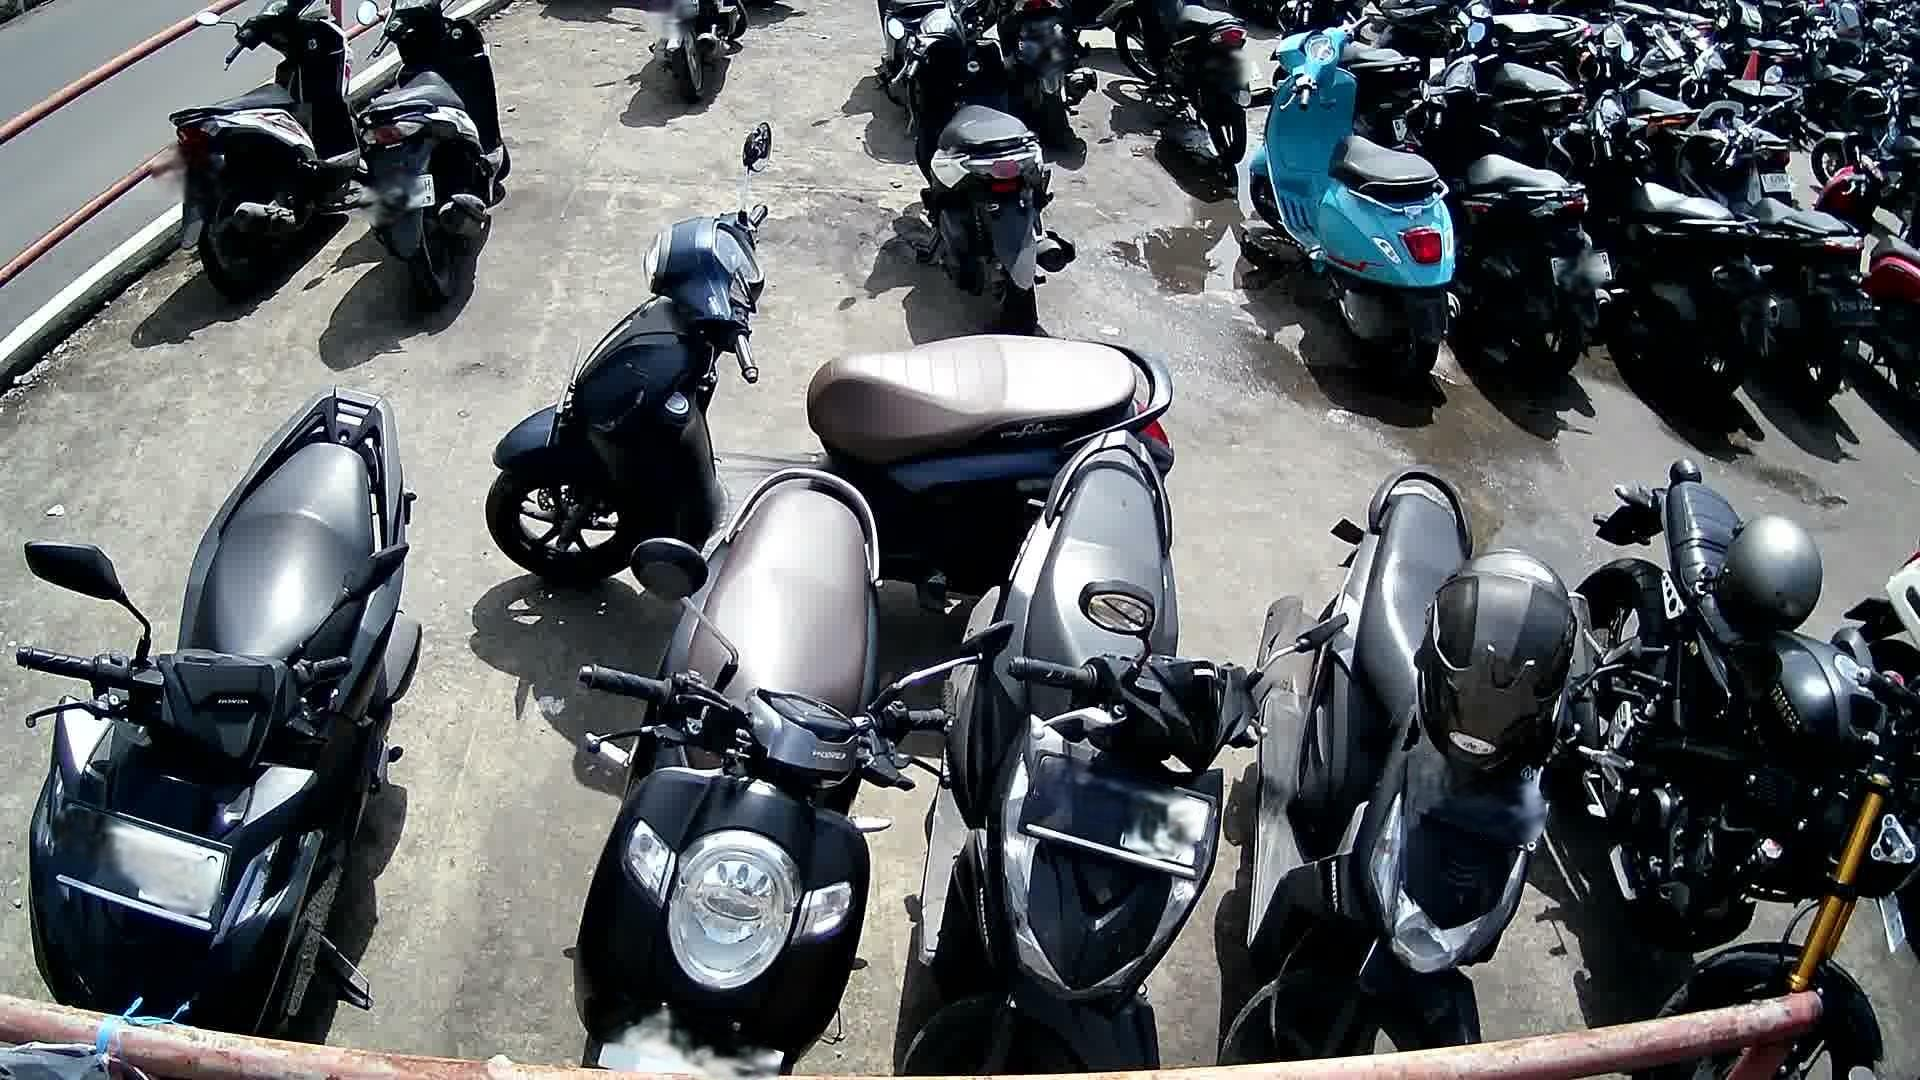motorcycle: (485, 121, 1174, 589), (13, 382, 427, 1043), (901, 429, 1286, 1080), (571, 465, 948, 1080), (1567, 456, 1920, 1079), (1222, 465, 1580, 1080), (1540, 37, 1785, 401), (1245, 8, 1466, 401), (1403, 20, 1619, 390), (1668, 69, 1890, 414), (881, 0, 1084, 339), (165, 0, 356, 307), (351, 0, 518, 310)
